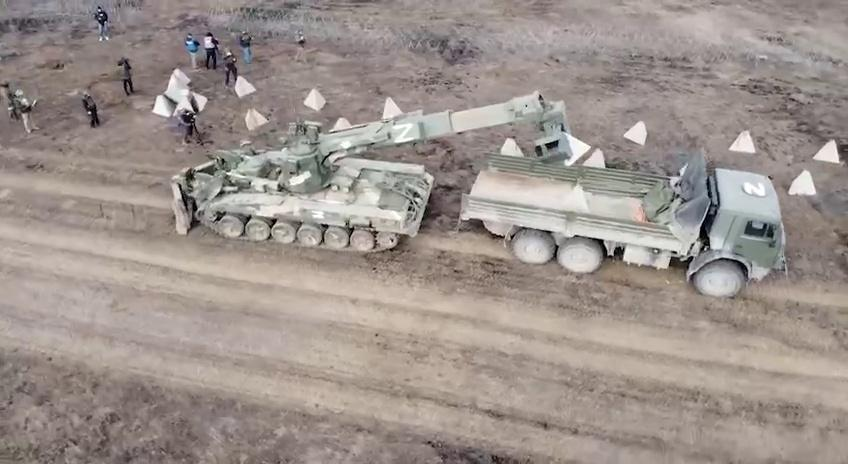person: (14, 90, 36, 134), (177, 106, 196, 146), (117, 58, 135, 96), (82, 94, 100, 128), (223, 48, 238, 88), (184, 33, 200, 69), (205, 32, 220, 70), (93, 6, 109, 41), (239, 31, 252, 64)
tank: (171, 91, 568, 256), (460, 151, 790, 298)
